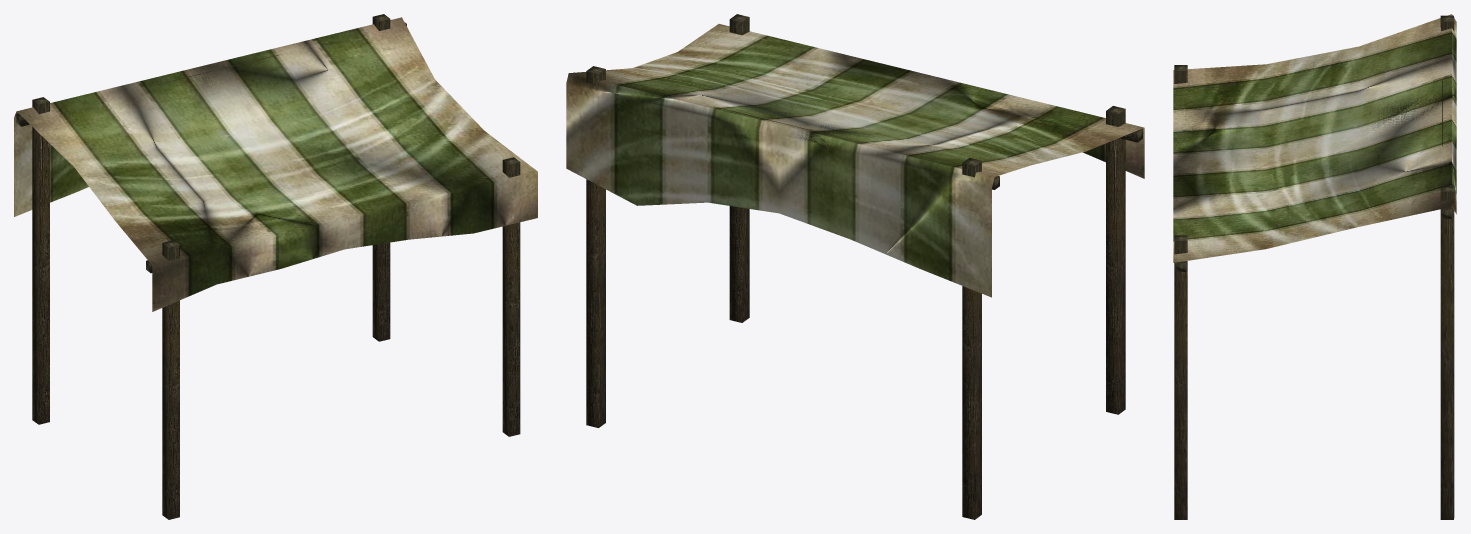
Rendered from GS_MARKET_GREEN_02.glb.
The picture shows the model from 3 angles, left to right: view 1: azimuth 30°, elevation 25°; view 2: azimuth 150°, elevation 25°; view 3: azimuth 270°, elevation 25°; orthographic projection. The views are drawn at different scales.
Parts seen in each view (by area): view 1: Mesh; view 2: Mesh; view 3: Mesh.
Part boxes in pixels (<box>): Mesh: <box>14,14,537,519</box>; Mesh: <box>566,14,1144,519</box>; Mesh: <box>1173,14,1456,519</box>.
Size of the model in its own units: 4.6 by 3.65 by 2.85.
3 materials, 3 textured.
